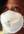with_mask: (1, 2, 24, 34)
